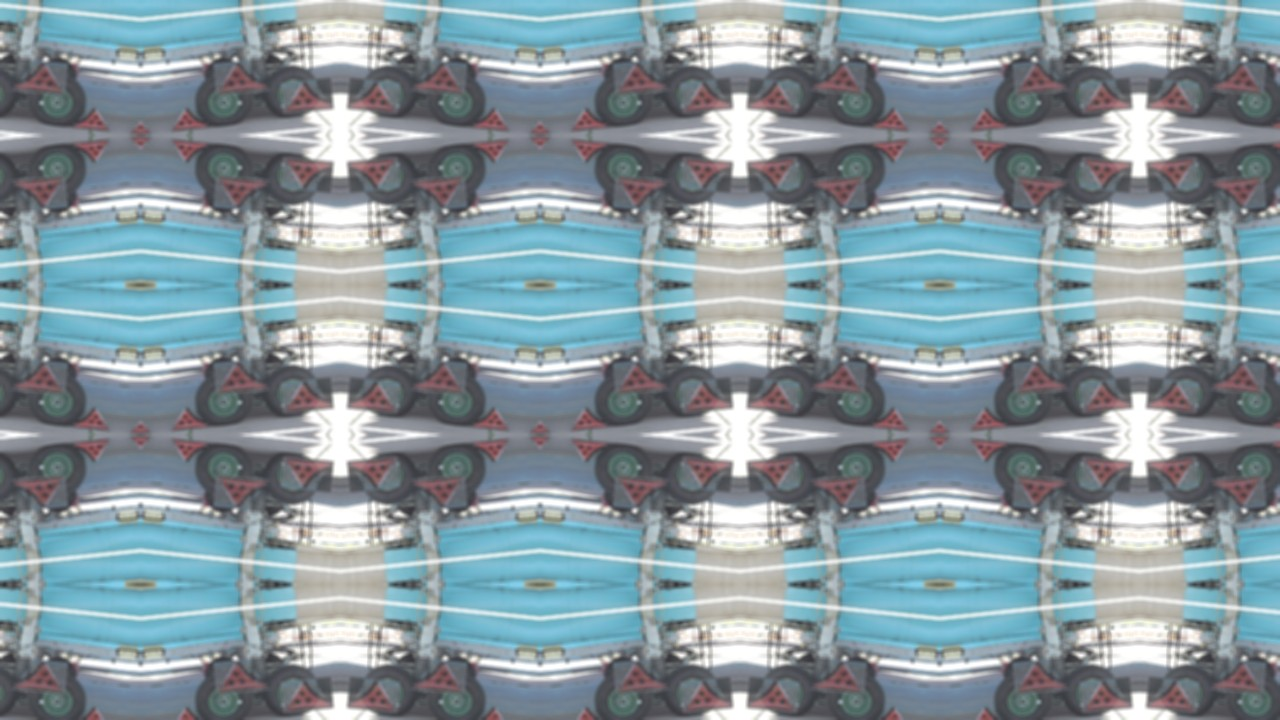chock: (11, 57, 67, 95), (213, 57, 269, 95), (411, 57, 467, 95), (613, 57, 669, 95), (811, 57, 867, 95), (1013, 57, 1069, 95), (1211, 57, 1267, 95), (11, 175, 67, 213), (213, 175, 269, 213), (411, 175, 467, 213), (613, 175, 669, 213), (811, 175, 867, 213), (1013, 175, 1069, 213), (1211, 175, 1267, 213), (11, 357, 67, 395), (213, 357, 269, 395), (411, 357, 467, 395), (613, 357, 669, 395), (811, 357, 867, 395), (1013, 357, 1069, 395), (1211, 357, 1267, 395), (11, 475, 67, 513), (213, 475, 269, 513), (411, 475, 467, 513), (613, 475, 669, 513), (811, 475, 867, 513), (1013, 475, 1069, 513), (1211, 475, 1267, 513), (11, 657, 67, 695), (213, 657, 269, 695), (411, 657, 467, 695), (613, 657, 669, 695), (811, 657, 867, 695), (1013, 657, 1069, 695), (1211, 657, 1267, 695), (280, 78, 333, 114), (347, 78, 400, 114), (680, 78, 733, 114), (747, 78, 800, 114), (1080, 78, 1133, 114), (1147, 78, 1200, 114), (280, 156, 333, 192), (347, 156, 400, 192), (680, 156, 733, 192), (747, 156, 800, 192), (1080, 156, 1133, 192), (1147, 156, 1200, 192), (280, 378, 333, 414), (347, 378, 400, 414), (680, 378, 733, 414), (747, 378, 800, 414), (1080, 378, 1133, 414), (1147, 378, 1200, 414), (280, 456, 333, 492), (347, 456, 400, 492), (680, 456, 733, 492), (747, 456, 800, 492), (1080, 456, 1133, 492), (1147, 456, 1200, 492), (280, 678, 333, 714), (347, 678, 400, 714), (680, 678, 733, 714), (747, 678, 800, 714), (1080, 678, 1133, 714), (1147, 678, 1200, 714), (72, 105, 112, 132), (168, 105, 208, 132), (472, 105, 512, 132), (568, 105, 608, 132), (872, 105, 912, 132), (968, 105, 1008, 132), (72, 138, 112, 165), (168, 138, 208, 165), (472, 138, 512, 165), (568, 138, 608, 165), (872, 138, 912, 165), (968, 138, 1008, 165), (72, 405, 112, 432), (168, 405, 208, 432), (472, 405, 512, 432), (568, 405, 608, 432), (872, 405, 912, 432), (968, 405, 1008, 432), (72, 438, 112, 465), (168, 438, 208, 465), (472, 438, 512, 465), (568, 438, 608, 465), (872, 438, 912, 465), (968, 438, 1008, 465), (72, 705, 112, 720), (168, 705, 208, 720), (472, 705, 512, 720), (568, 705, 608, 720), (872, 705, 912, 720), (968, 705, 1008, 720), (1272, 105, 1280, 132), (1272, 138, 1280, 165), (1272, 405, 1280, 432), (1272, 438, 1280, 465), (1272, 705, 1280, 720)
wheel: (259, 61, 323, 120), (357, 61, 421, 120), (659, 61, 723, 120), (757, 61, 821, 120), (1059, 61, 1123, 120), (1157, 61, 1221, 120), (259, 150, 323, 209), (357, 150, 421, 209), (659, 150, 723, 209), (757, 150, 821, 209), (1059, 150, 1123, 209), (1157, 150, 1221, 209), (259, 361, 323, 420), (357, 361, 421, 420), (659, 361, 723, 420), (757, 361, 821, 420), (1059, 361, 1123, 420), (1157, 361, 1221, 420), (259, 450, 323, 509), (357, 450, 421, 509), (659, 450, 723, 509), (757, 450, 821, 509), (1059, 450, 1123, 509), (1157, 450, 1221, 509), (259, 661, 323, 720), (357, 661, 421, 720), (659, 661, 723, 720), (757, 661, 821, 720), (1059, 661, 1123, 720), (1157, 661, 1221, 720), (26, 70, 89, 129), (191, 70, 254, 129), (426, 70, 489, 129), (591, 70, 654, 129), (826, 70, 889, 129), (991, 70, 1054, 129), (26, 141, 89, 200), (191, 141, 254, 200), (426, 141, 489, 200), (591, 141, 654, 200), (826, 141, 889, 200), (991, 141, 1054, 200), (26, 370, 89, 429), (191, 370, 254, 429), (426, 370, 489, 429), (591, 370, 654, 429), (826, 370, 889, 429), (991, 370, 1054, 429), (26, 441, 89, 500), (191, 441, 254, 500), (426, 441, 489, 500), (591, 441, 654, 500), (826, 441, 889, 500), (991, 441, 1054, 500), (1226, 70, 1280, 129), (1226, 141, 1280, 200), (1226, 370, 1280, 429), (1226, 441, 1280, 500), (26, 670, 89, 720), (191, 670, 254, 720), (426, 670, 489, 720), (591, 670, 654, 720), (826, 670, 889, 720), (991, 670, 1054, 720), (1226, 670, 1280, 720), (0, 61, 21, 120), (0, 150, 21, 209), (0, 361, 21, 420), (0, 450, 21, 509), (0, 661, 21, 720), (38, 56, 78, 80), (202, 56, 242, 80), (438, 56, 478, 80), (602, 56, 642, 80), (838, 56, 878, 80), (1002, 56, 1042, 80), (1238, 56, 1278, 80), (38, 190, 78, 214), (202, 190, 242, 214), (438, 190, 478, 214), (602, 190, 642, 214), (838, 190, 878, 214), (1002, 190, 1042, 214), (1238, 190, 1278, 214), (38, 356, 78, 380), (202, 356, 242, 380), (438, 356, 478, 380), (602, 356, 642, 380), (838, 356, 878, 380), (1002, 356, 1042, 380), (1238, 356, 1278, 380), (38, 490, 78, 514), (202, 490, 242, 514), (438, 490, 478, 514), (602, 490, 642, 514), (838, 490, 878, 514), (1002, 490, 1042, 514), (1238, 490, 1278, 514), (38, 656, 78, 680), (202, 656, 242, 680), (438, 656, 478, 680), (602, 656, 642, 680), (838, 656, 878, 680), (1002, 656, 1042, 680), (1238, 656, 1278, 680), (262, 52, 285, 70), (395, 52, 418, 70), (662, 52, 685, 70), (795, 52, 818, 70), (1062, 52, 1085, 70), (1195, 52, 1218, 70), (262, 200, 285, 218), (395, 200, 418, 218), (662, 200, 685, 218), (795, 200, 818, 218), (1062, 200, 1085, 218), (1195, 200, 1218, 218), (262, 352, 285, 370), (395, 352, 418, 370), (662, 352, 685, 370), (795, 352, 818, 370), (1062, 352, 1085, 370), (1195, 352, 1218, 370), (262, 500, 285, 518), (395, 500, 418, 518), (662, 500, 685, 518), (795, 500, 818, 518), (1062, 500, 1085, 518), (1195, 500, 1218, 518), (262, 652, 285, 670), (395, 652, 418, 670), (662, 652, 685, 670), (795, 652, 818, 670), (1062, 652, 1085, 670), (1195, 652, 1218, 670), (0, 52, 18, 70), (0, 200, 18, 218), (0, 352, 18, 370), (0, 500, 18, 518), (0, 652, 18, 670)
